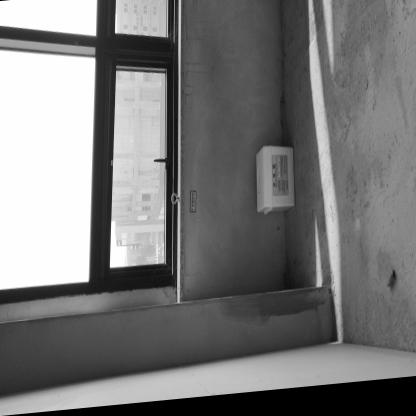DDL: (256, 148, 296, 219)
